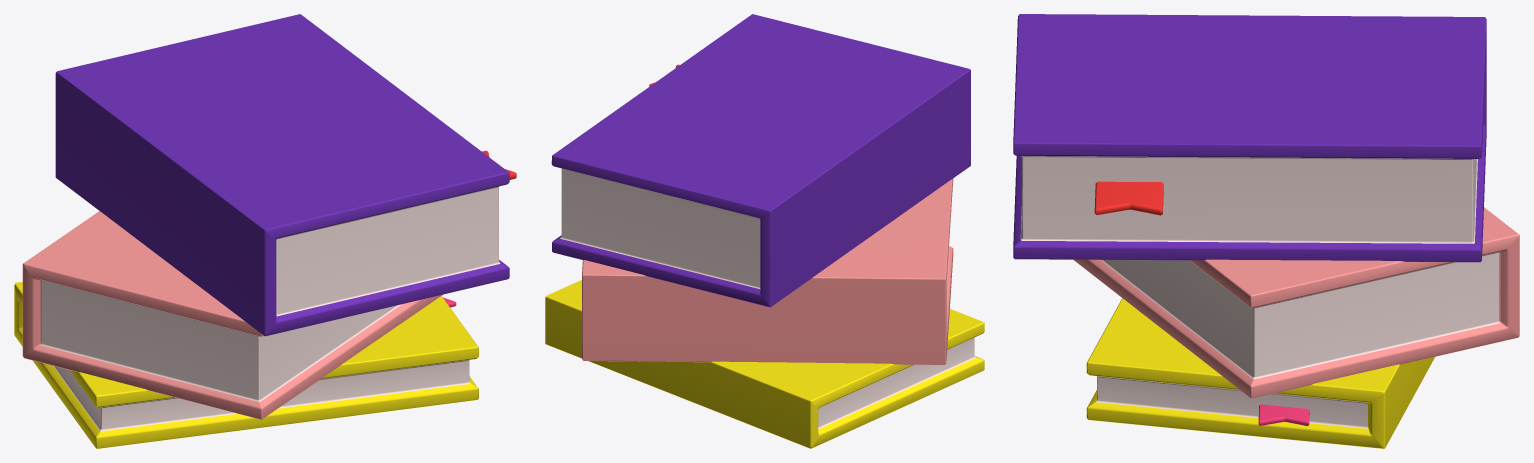
Rendered from Public_2_Books_7.glb.
The picture shows the model from 3 angles, left to right: view 1: azimuth 30°, elevation 25°; view 2: azimuth 150°, elevation 25°; view 3: azimuth 270°, elevation 25°; orthographic projection. The views are drawn at different scales.
Parts seen in each view (by area): view 1: Public_2_Books_7; view 2: Public_2_Books_7; view 3: Public_2_Books_7.
Part boxes in pixels (left/top/right/bottom): Public_2_Books_7: left=14, top=14, right=516, bottom=448; Public_2_Books_7: left=545, top=14, right=984, bottom=448; Public_2_Books_7: left=1013, top=14, right=1519, bottom=448.
Bounding box in the file's own units: 2.48 × 1.43 × 2.37.
Materials: 1 (1 with a texture image).
